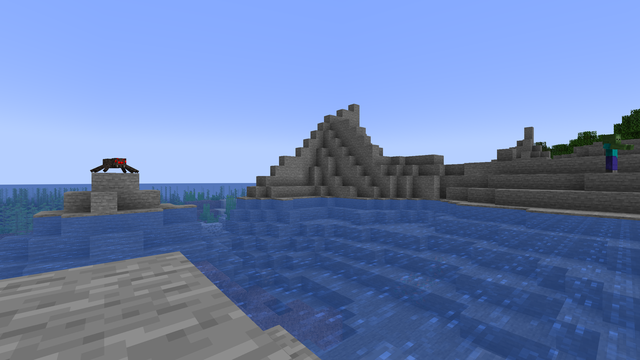araignees: (99, 155, 131, 169)
zombies: (602, 134, 619, 172)
